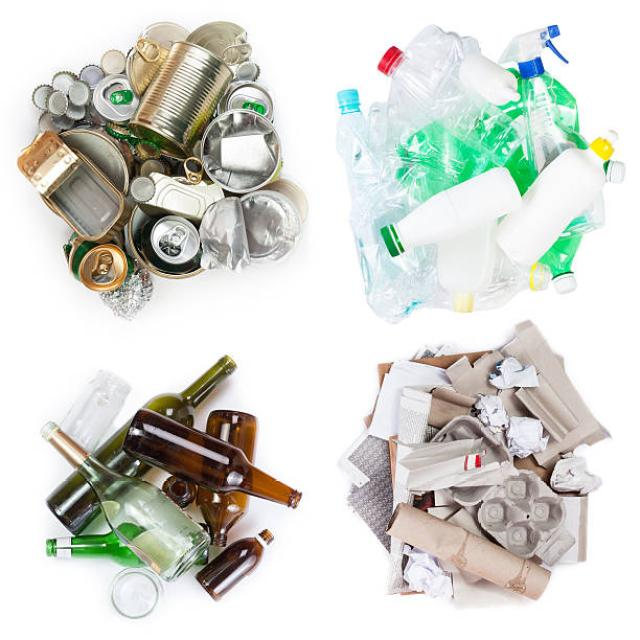cardboard: (336, 341, 619, 611)
glass: (37, 358, 299, 594)
metal: (33, 45, 273, 290)
plastic: (334, 34, 616, 301)
